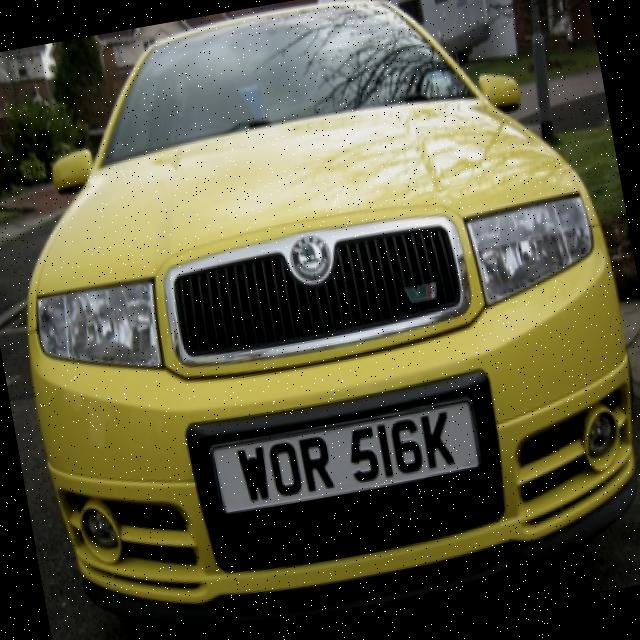Autre: (208, 404, 486, 522)
